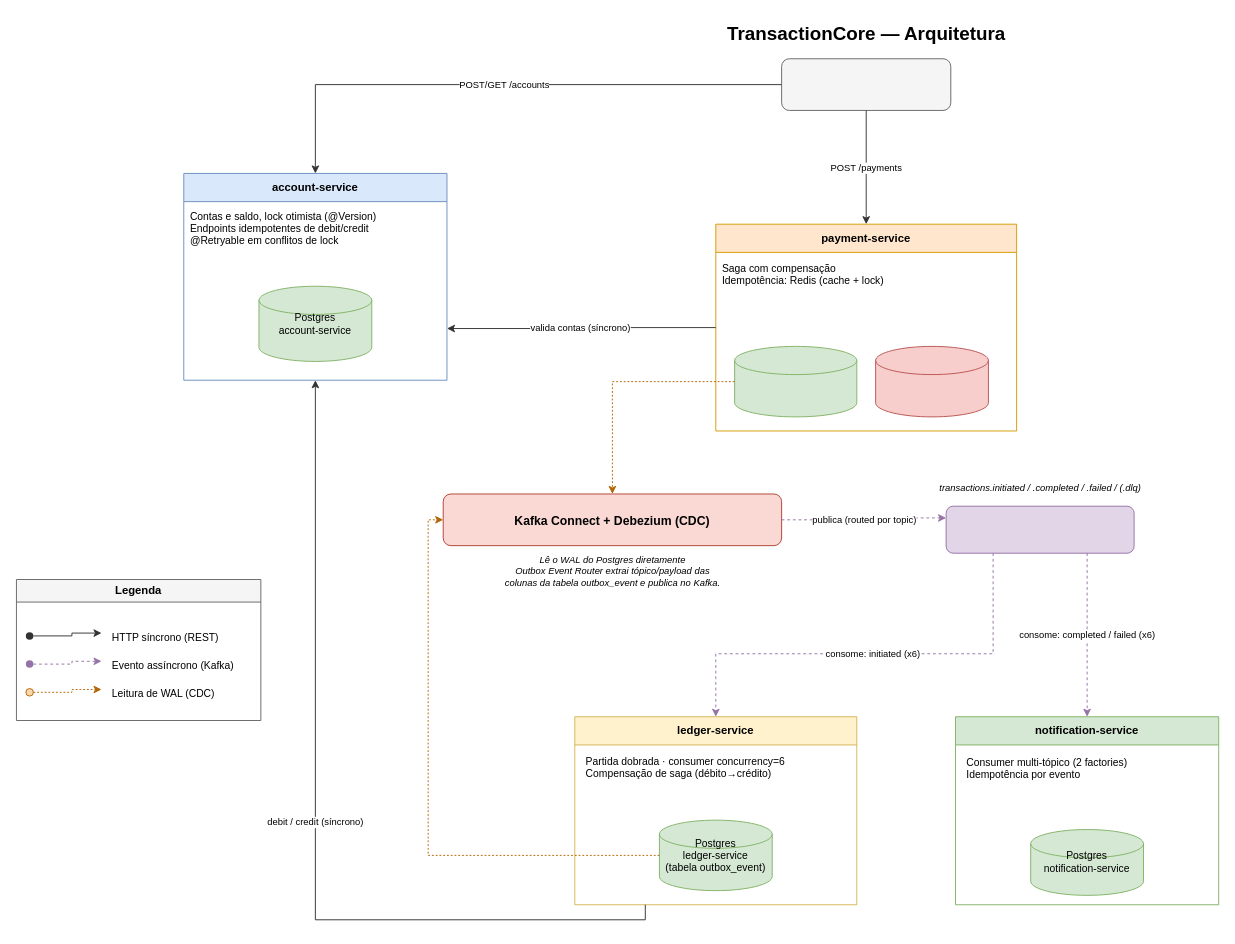
Image size: 1235x944. Some labels were removed from this diagram. Here are the shapes that lost their labels. From the top down, the centre of each, then its label:
At (866,84): "Cliente (Front-end / App )".
At (795,381): "Postgres payment-service (tabela outbox_event)".
At (931,381): "Redis cache + lock".
At (1039,529): "Apache Kafka".
